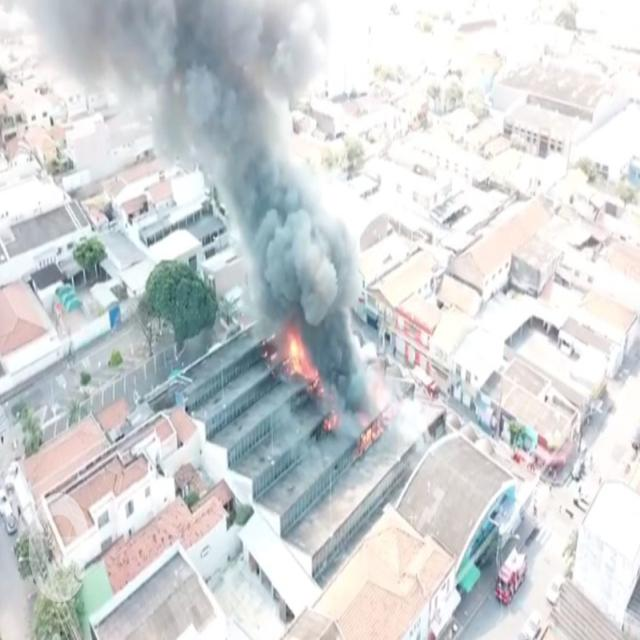smoke: (56, 1, 279, 131), (240, 176, 359, 316)
